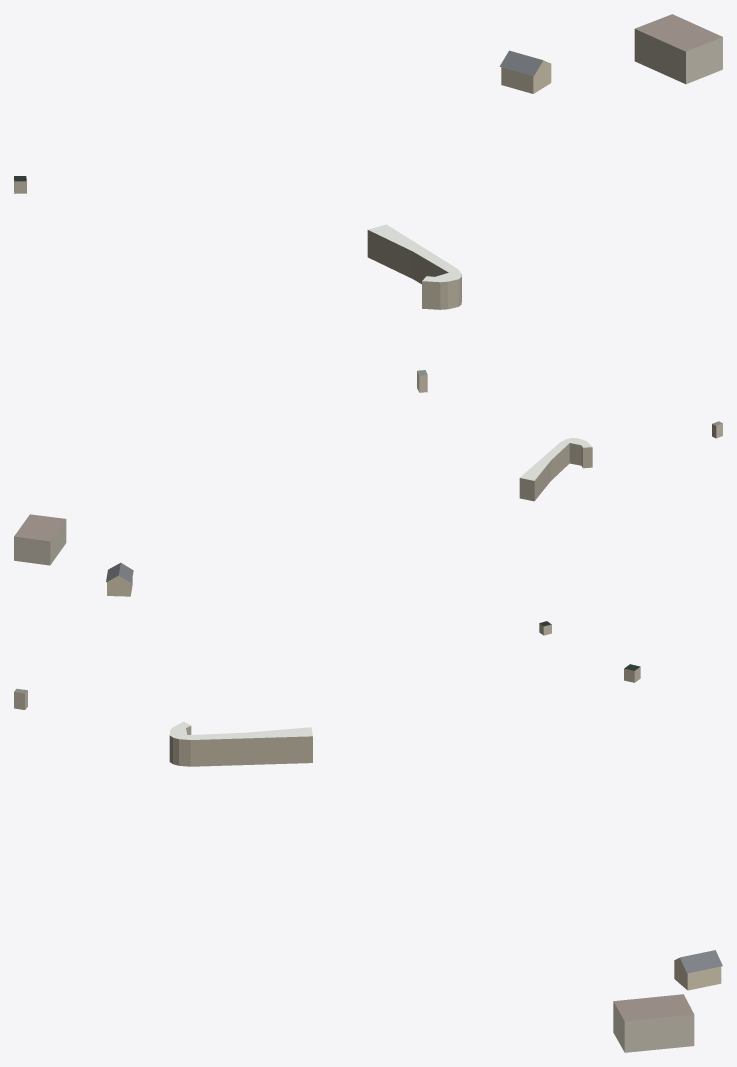
3 renders of one model, top to bottom at view 1: azimuth 30°, elevation 25°; view 2: azimuth 150°, elevation 25°; view 3: azimuth 270°, elevation 25°, orthographic. The views are drawn at different scales.
Parts seen in each view (by area): view 1: tuile; view 2: tuile; view 3: tuile.
Part boxes in pixels (x1=…): tuile: x1=14, y1=14, x2=722, y2=392; tuile: x1=14, y1=421, x2=722, y2=635; tuile: x1=14, y1=664, x2=722, y2=1052.
Bounding box in the file's own units: 214 × 25.53 × 193.
